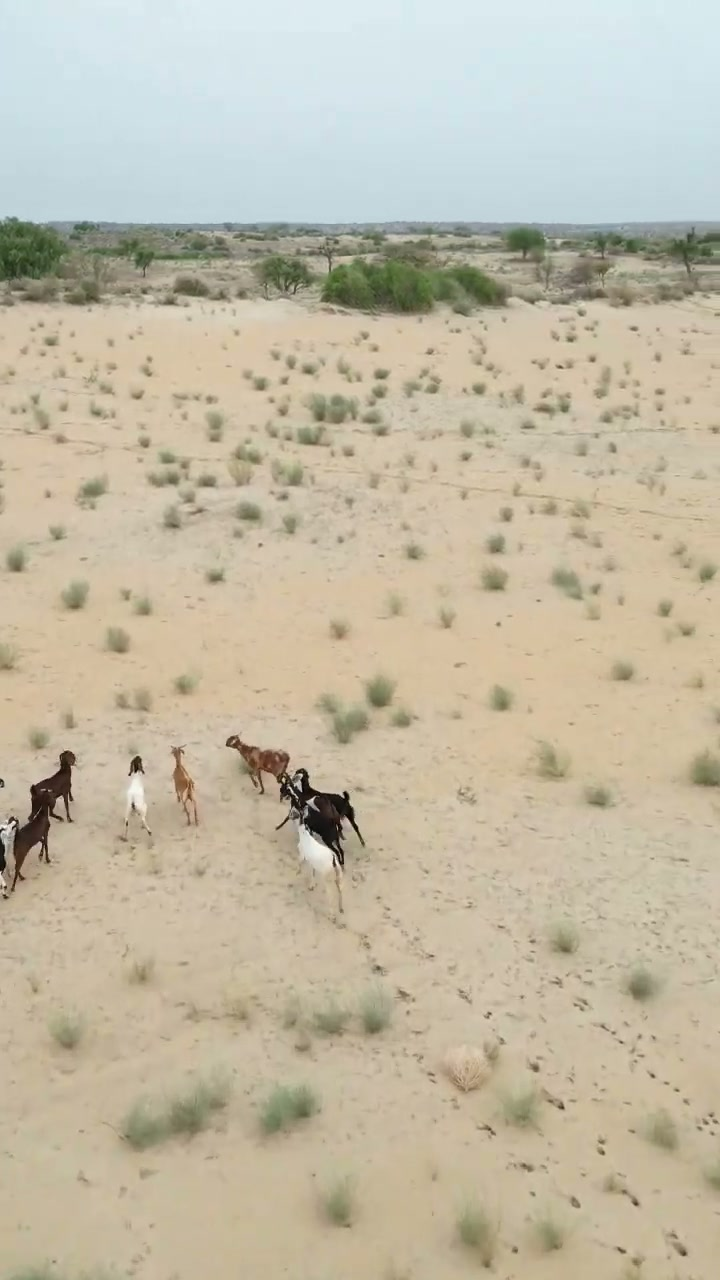animal_foot_print: (3, 837, 715, 1279)
